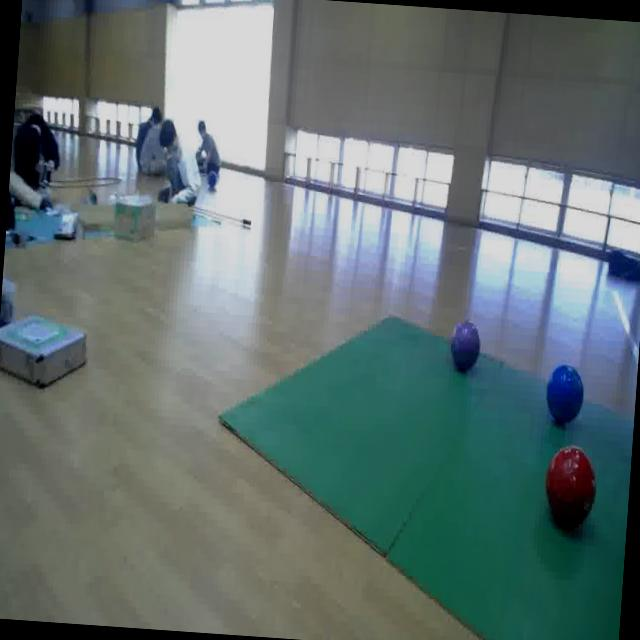blue_ball: (540, 334, 596, 442)
purple_ball: (442, 310, 484, 385)
red_ball: (536, 434, 611, 542)
